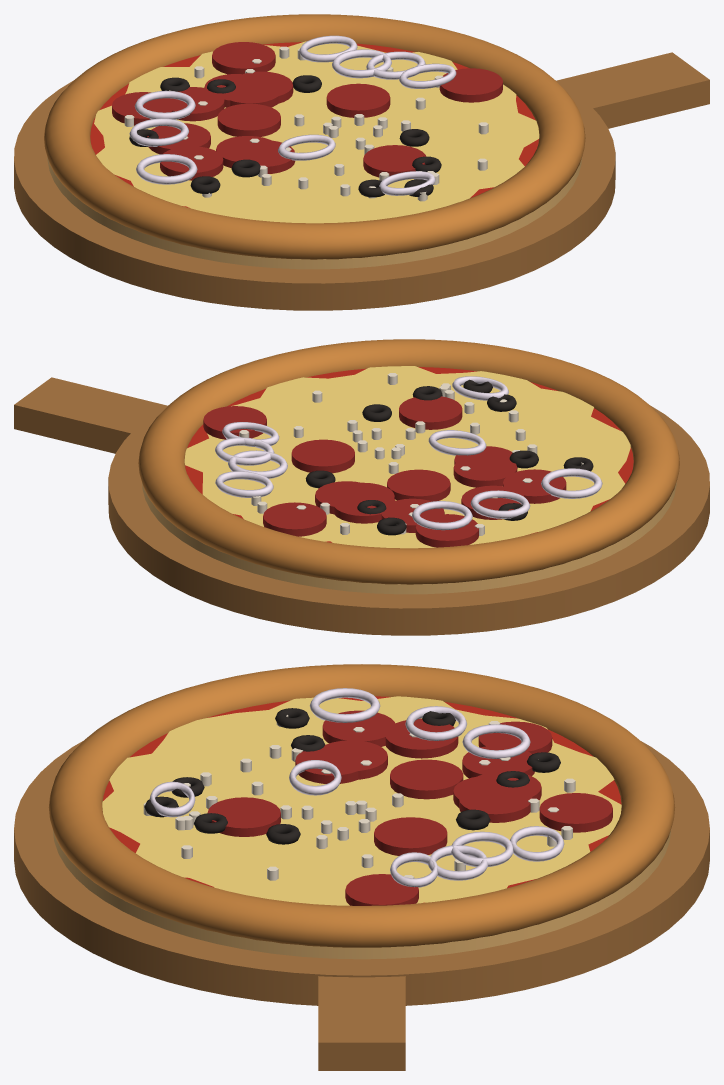
Rendered from pizza-calabresa.glb.
3 renders of one model, top to bottom at view 1: azimuth 30°, elevation 25°; view 2: azimuth 150°, elevation 25°; view 3: azimuth 270°, elevation 25°, orthographic. The views are drawn at different scales.
Parts seen in each view (by area): view 1: pizza-calabresa, calabresa, cebola, azeitona, gordura; view 2: pizza-calabresa, calabresa, cebola, azeitona, gordura; view 3: pizza-calabresa, calabresa, cebola, azeitona, gordura.
Boxes of the visible parts, <box> form: pizza-calabresa: <box>14,14,709,310</box>; calabresa: <box>112,42,502,180</box>; cebola: <box>129,35,456,195</box>; azeitona: <box>129,75,441,197</box>; gordura: <box>124,46,488,201</box>; pizza-calabresa: <box>14,339,709,635</box>; calabresa: <box>203,396,566,547</box>; cebola: <box>215,376,602,530</box>; azeitona: <box>305,379,593,535</box>; gordura: <box>239,373,583,535</box>; pizza-calabresa: <box>14,664,709,1070</box>; calabresa: <box>207,710,612,905</box>; cebola: <box>149,688,564,887</box>; azeitona: <box>144,708,560,844</box>; gordura: <box>143,715,575,880</box>.
Size of the model in its own units: 0.44 by 0.0412 by 0.36.
